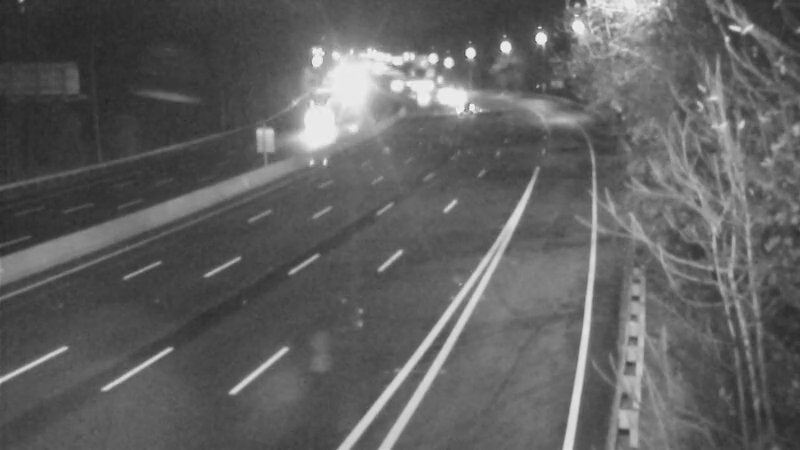vehicle: (397, 73, 447, 123), (427, 73, 477, 123), (443, 84, 493, 134), (294, 96, 344, 146)
